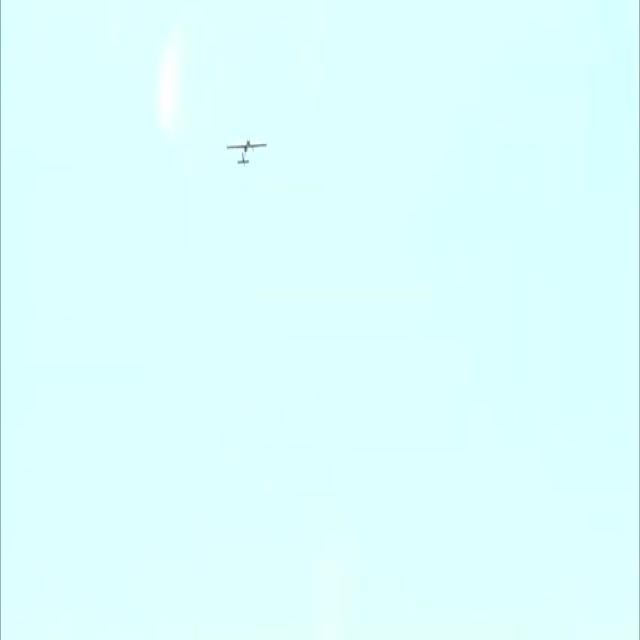iha: (225, 137, 267, 167)
